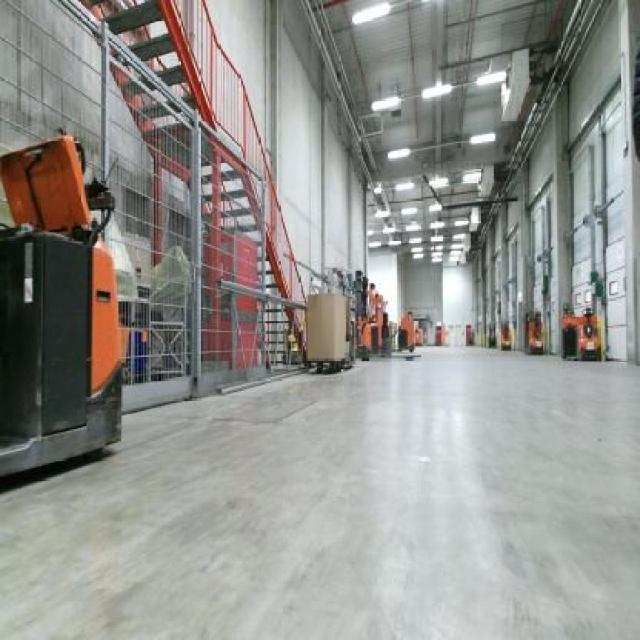floor: (0, 346, 637, 637)
pallets: (0, 134, 122, 472), (305, 294, 343, 369)
